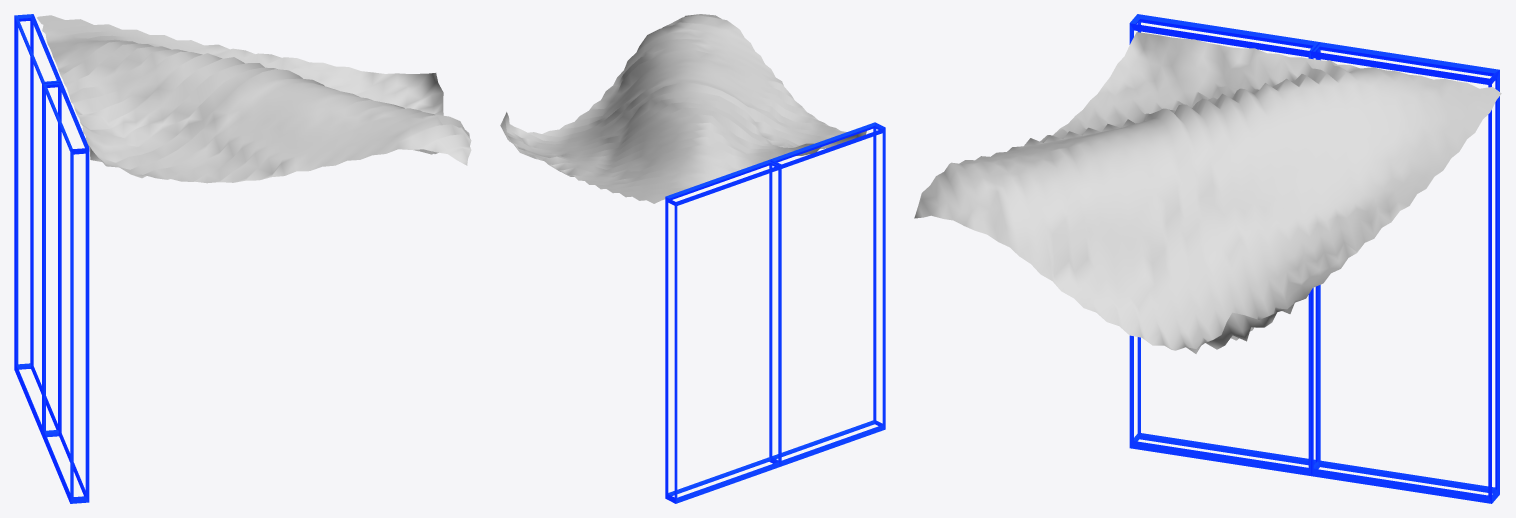
The model's file is wireframewindowv3.glb.
3 views of the same model, side by side, from view 1: azimuth 30°, elevation 25°; view 2: azimuth 150°, elevation 25°; view 3: azimuth 270°, elevation 25° (orthographic). The views are drawn at different scales.
Parts seen in each view (by area): view 1: Plane.002, Cube.001; view 2: Plane.002, Cube.001; view 3: Plane.002, Cube.001.
Boxes of the visible parts, x1,y1,x2,y2 form: Plane.002: (37,15,471,183); Cube.001: (14,14,89,503); Plane.002: (500,14,866,203); Cube.001: (665,122,885,503); Plane.002: (914,32,1501,353); Cube.001: (1129,14,1499,503).
Size of the model in its own units: 20.83 by 18.06 by 21.63.
